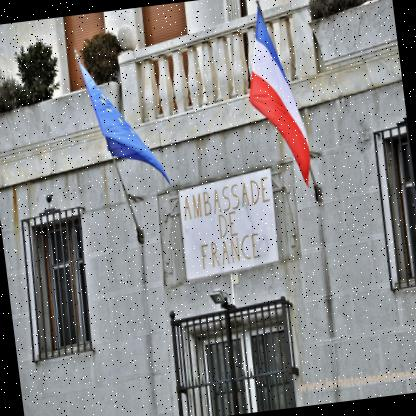fr: (239, 1, 322, 198)
